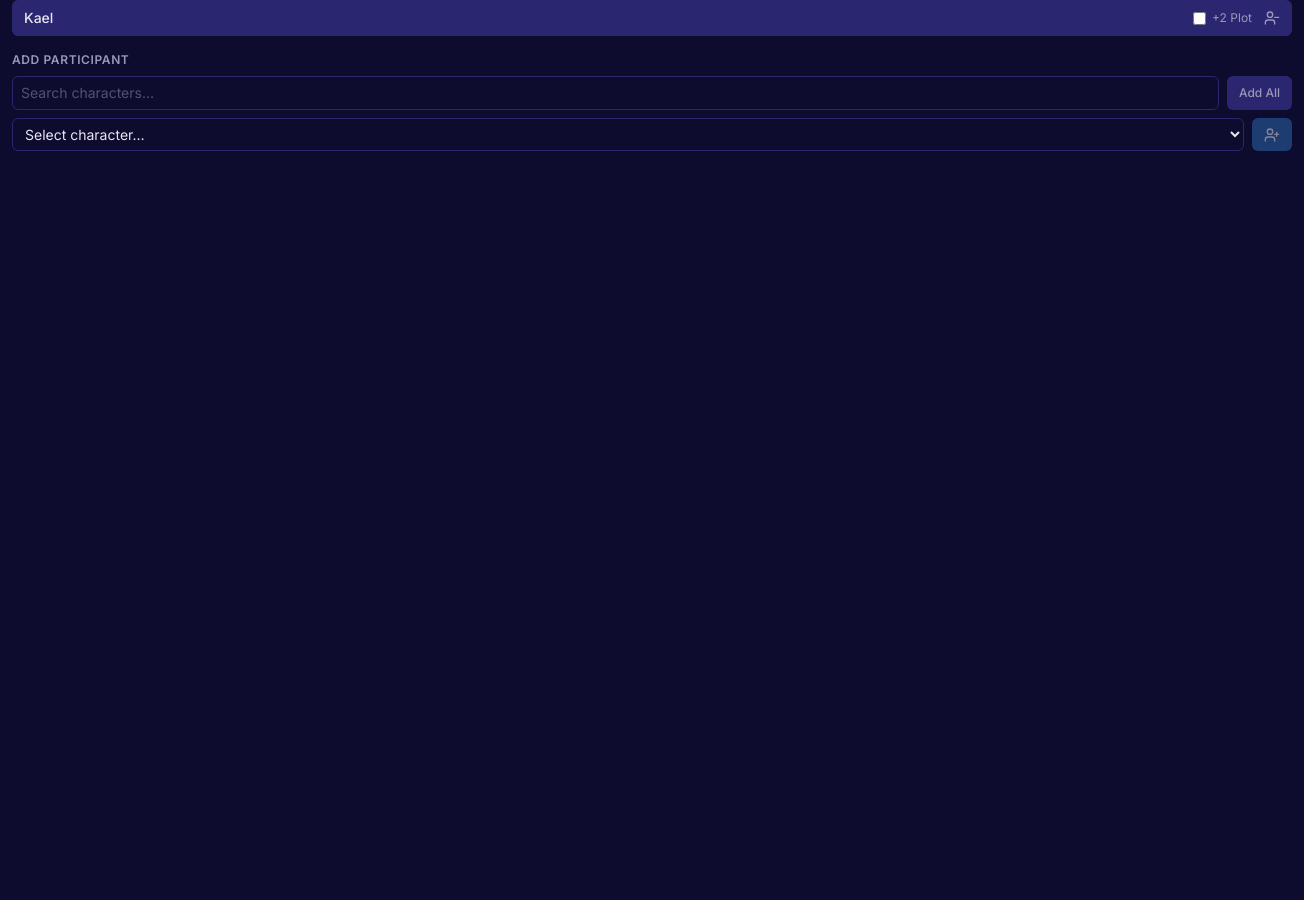
Scenario: ParticipantManagement: error handling › shows error toast when contribution update fails
Click the checkbox named "additional contribution for kael" at x=1200, y=18, box [1193,12,1206,24]
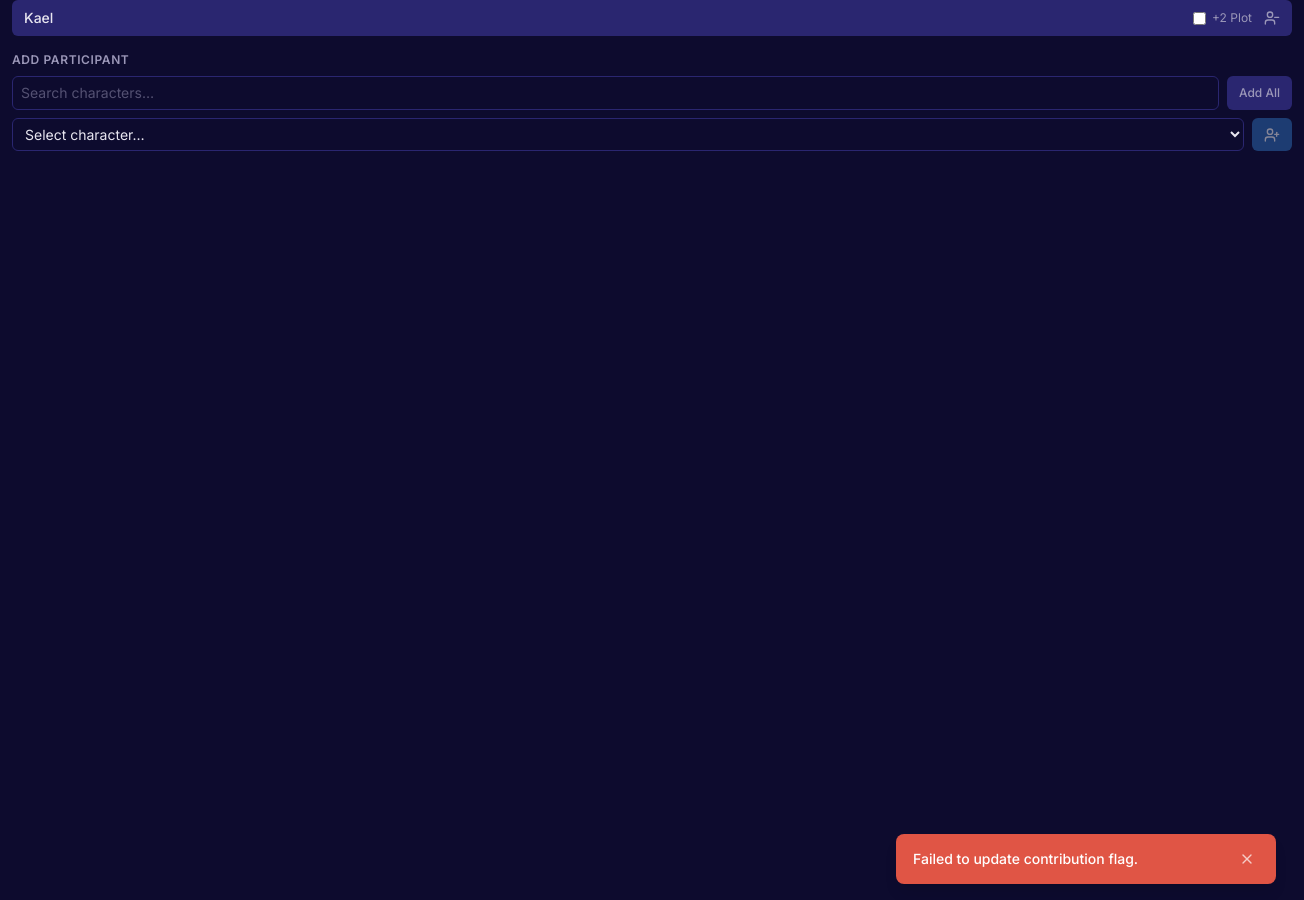
Result: the text "Failed to update contribution flag." is shown at [913,849,1138,869]
